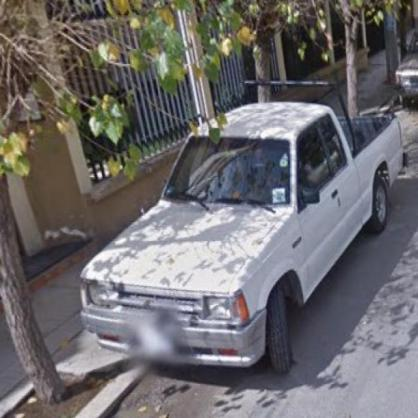car: (80, 97, 406, 384)
